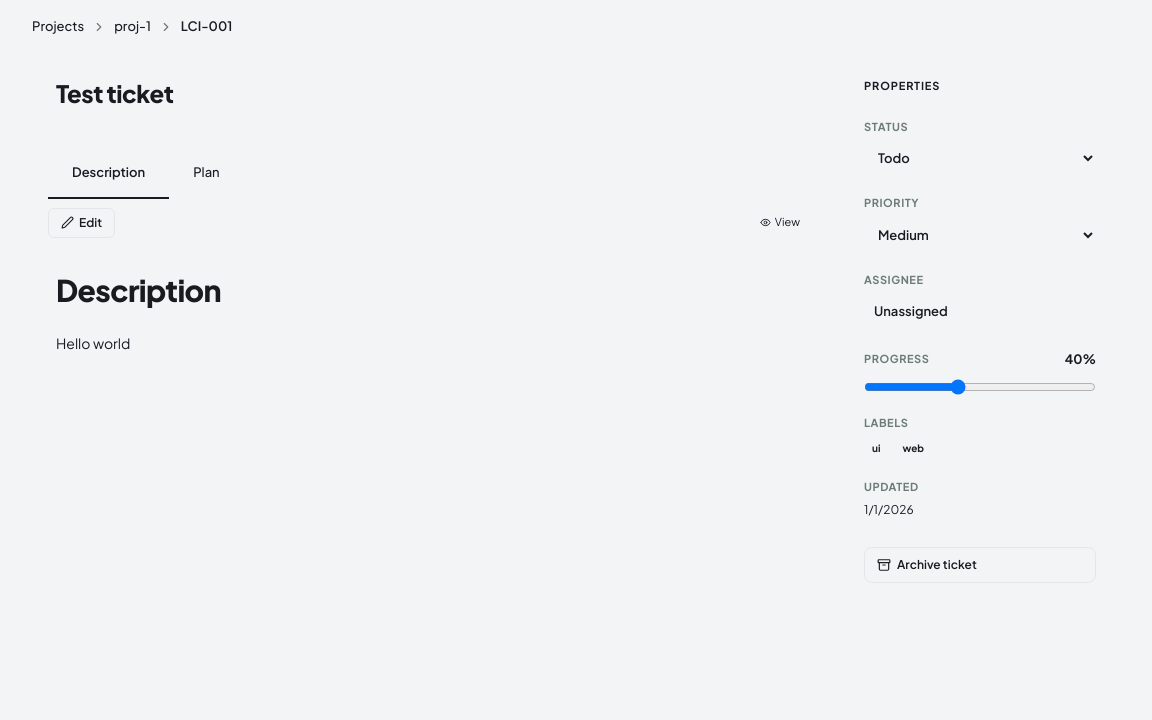
Scenario: TicketDetailPage › document tabs › clicking Edit shows the textarea and Save button
Expected: the text "LCI-001" is shown, x1=181 y1=17 x2=232 y2=37
Click the button with id "edit-doc-btn-description" at (82, 223), box x1=48 y1=208 x2=115 y2=238
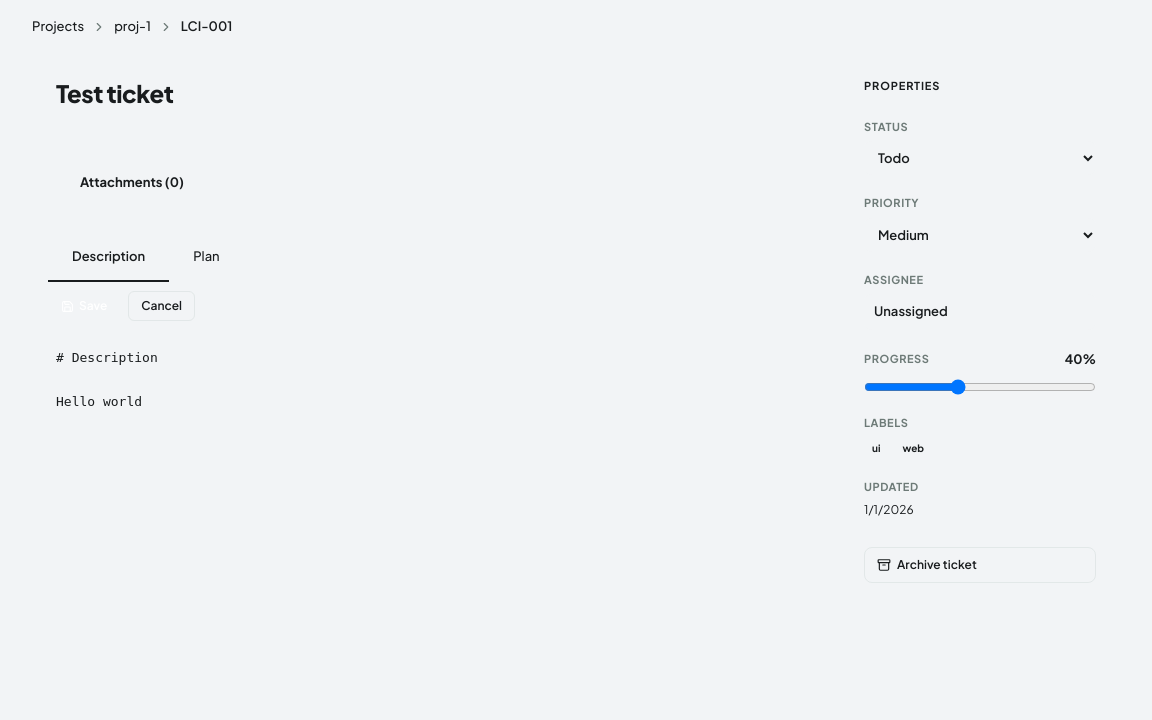
Expected: the text box with id "doc-textarea-description" is shown, x1=32 y1=331 x2=816 y2=688
